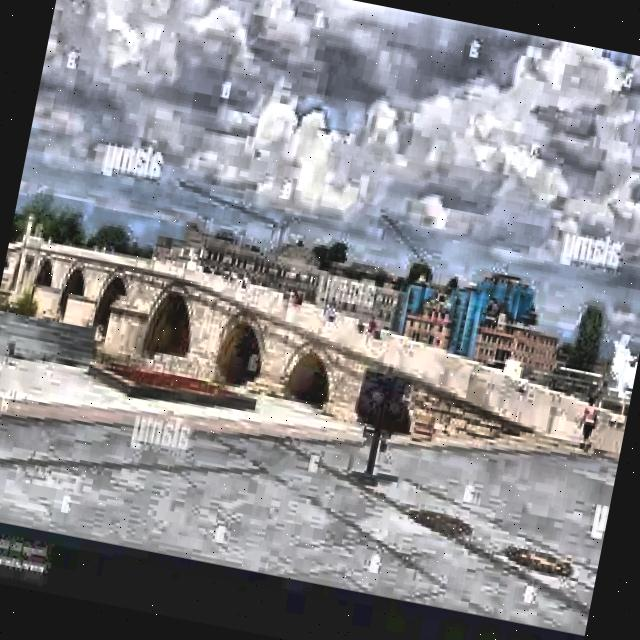stone bridge: (0, 211, 603, 466)
